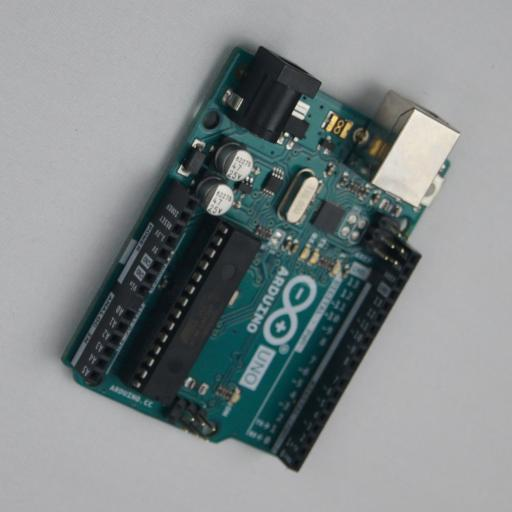Arduino Uno -Green-: (57, 42, 460, 472)
